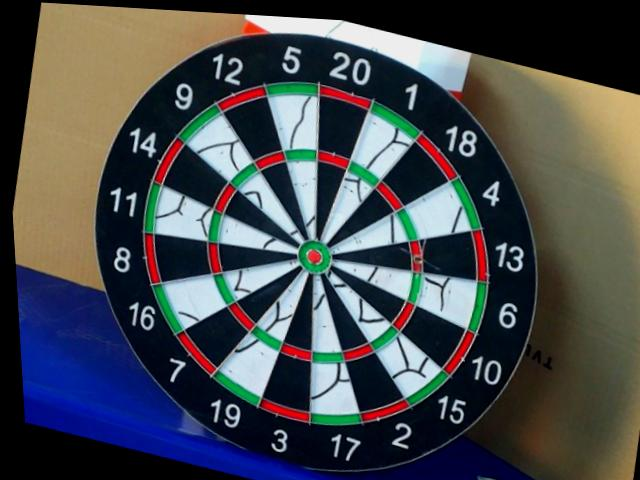triple_13: (411, 244, 426, 273)
